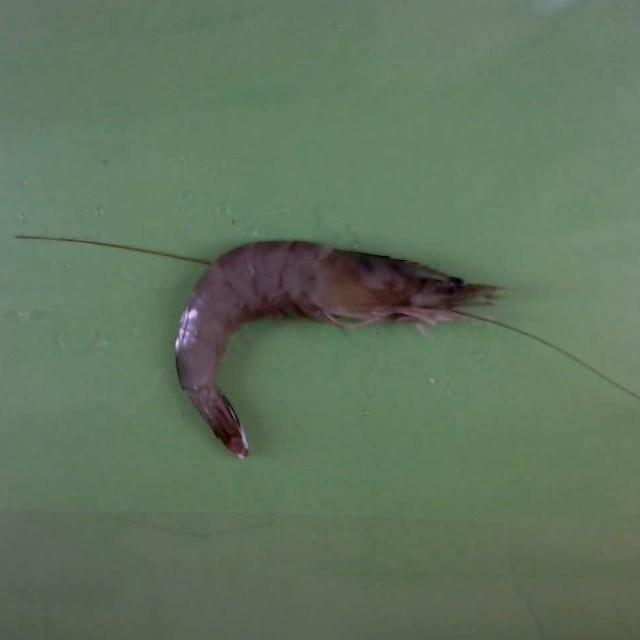shrimp: (175, 242, 497, 458)
